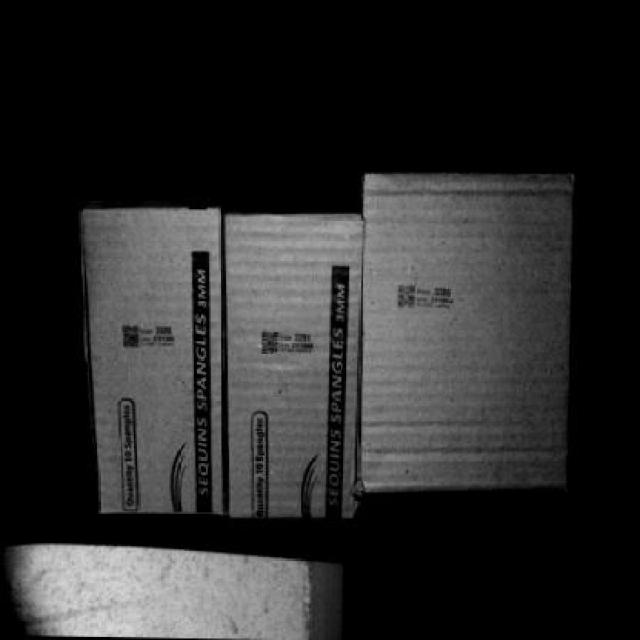cardboxes: (363, 168, 574, 487), (78, 211, 230, 520), (225, 214, 366, 520)
